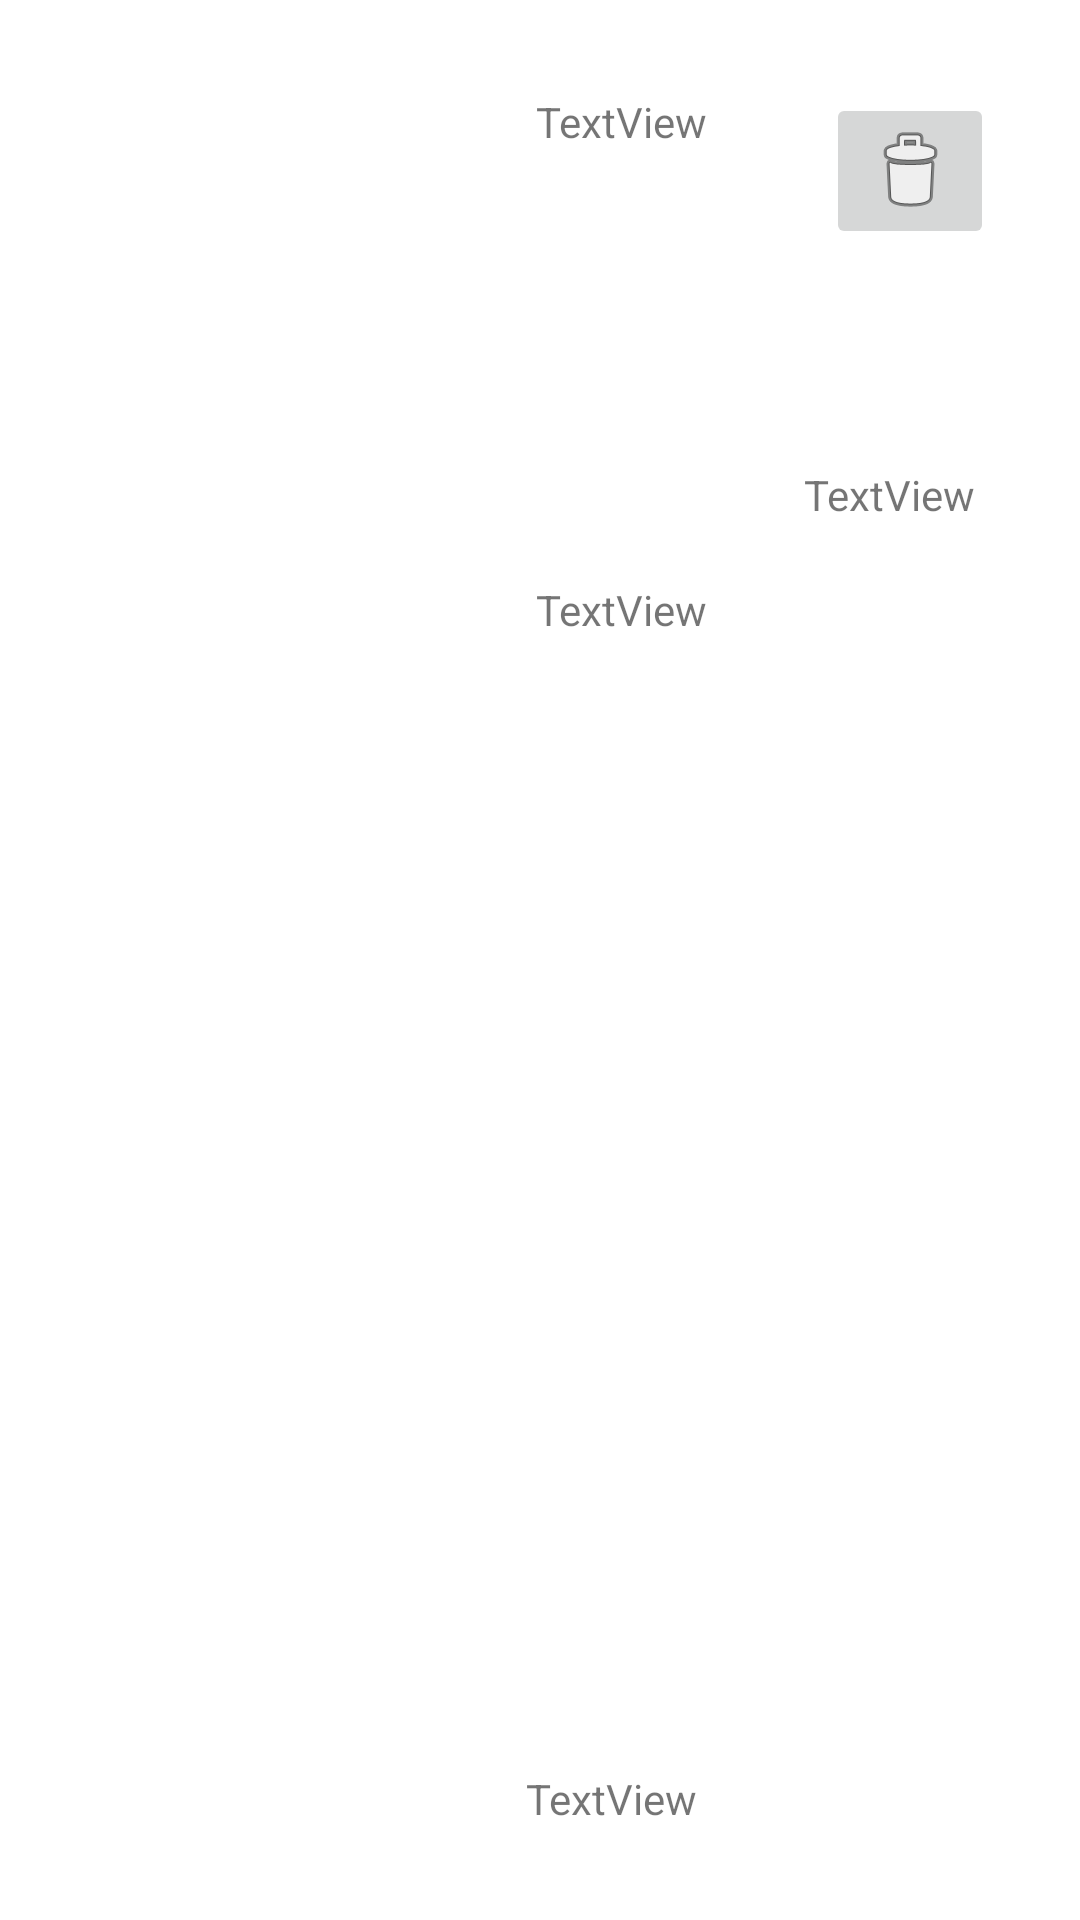

Icons on this 1080w x 1920h Android screen, each with the point to tap as point (x, y):
delete: point (910, 171)
